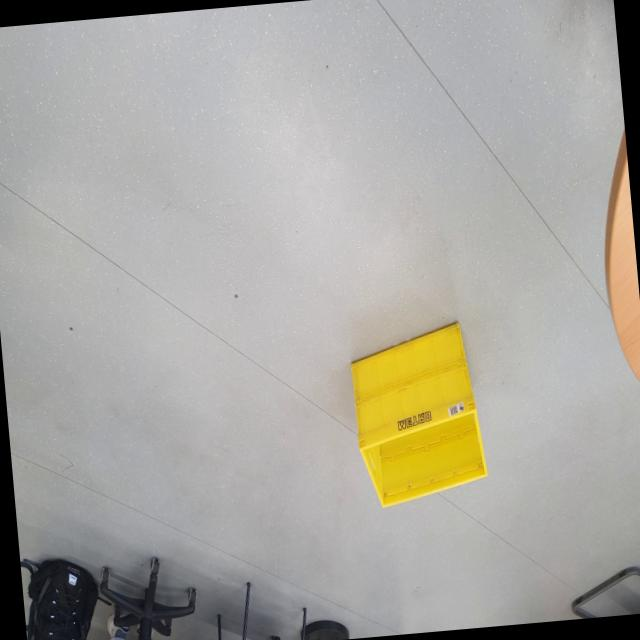box: (338, 306, 495, 529)
